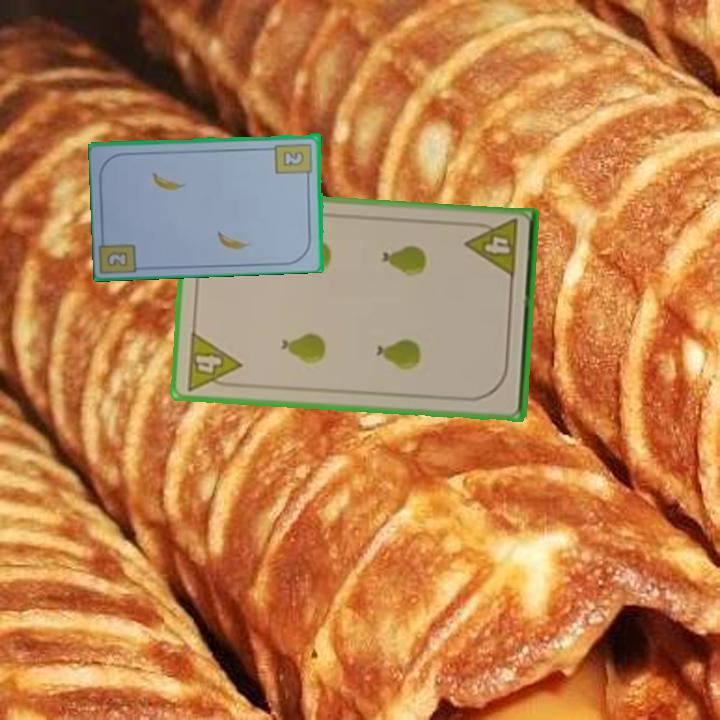2b: (272, 140, 315, 182), (106, 250, 128, 267)
4p: (182, 328, 244, 393), (462, 216, 521, 281)
